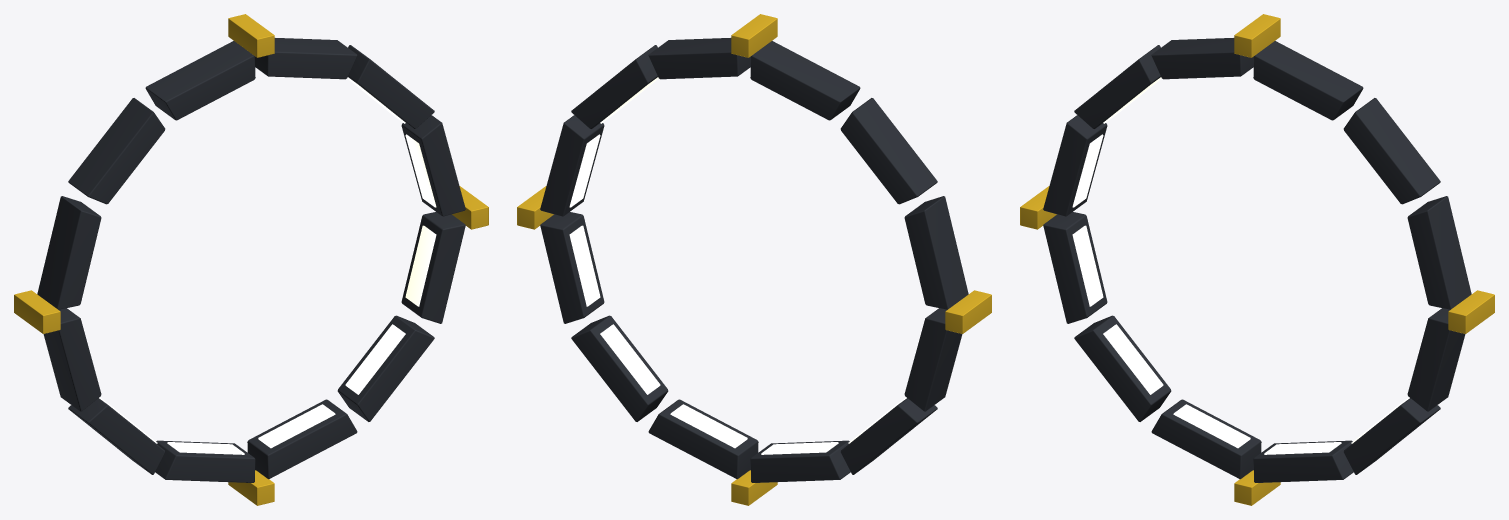
The model's file is ring_gate.glb.
3 views of the same model, side by side, from view 1: azimuth 30°, elevation 25°; view 2: azimuth 150°, elevation 25°; view 3: azimuth 330°, elevation 25° (orthographic).
Visible parts, largest first — view 1: frame, rim_light, marker; view 2: frame, rim_light, marker; view 3: frame, rim_light, marker.
Boxes of the visible parts, x1,y1,x2,y2 form: frame: (37,38,465,482); rim_light: (99,77,436,454); marker: (14,14,488,505); frame: (540,38,968,482); rim_light: (569,77,906,454); marker: (517,14,991,505); frame: (1043,38,1471,482); rim_light: (1072,77,1409,454); marker: (1020,14,1494,505).
Size of the model in its own units: 74 by 74 by 8.4.
